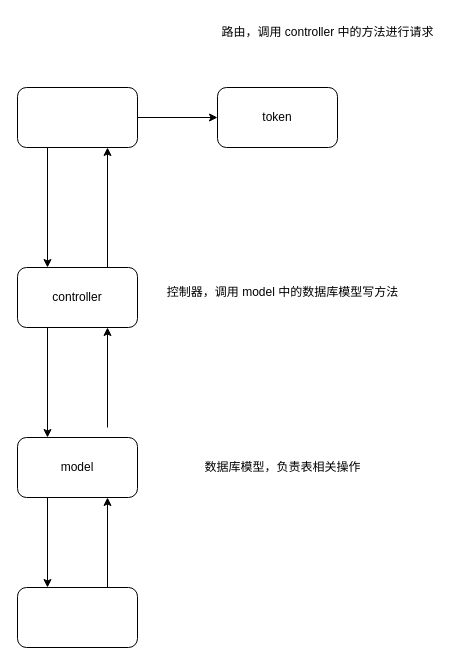
Some shapes in this 465 by 665 pixel diagram are drawn without their labels. The shapes that lost their labels are listed below. From the top down, each one's box as (x1, y1, x2, y2) in pixels, then its label:
(16, 86, 138, 148): router
(16, 586, 138, 648): 数据库
